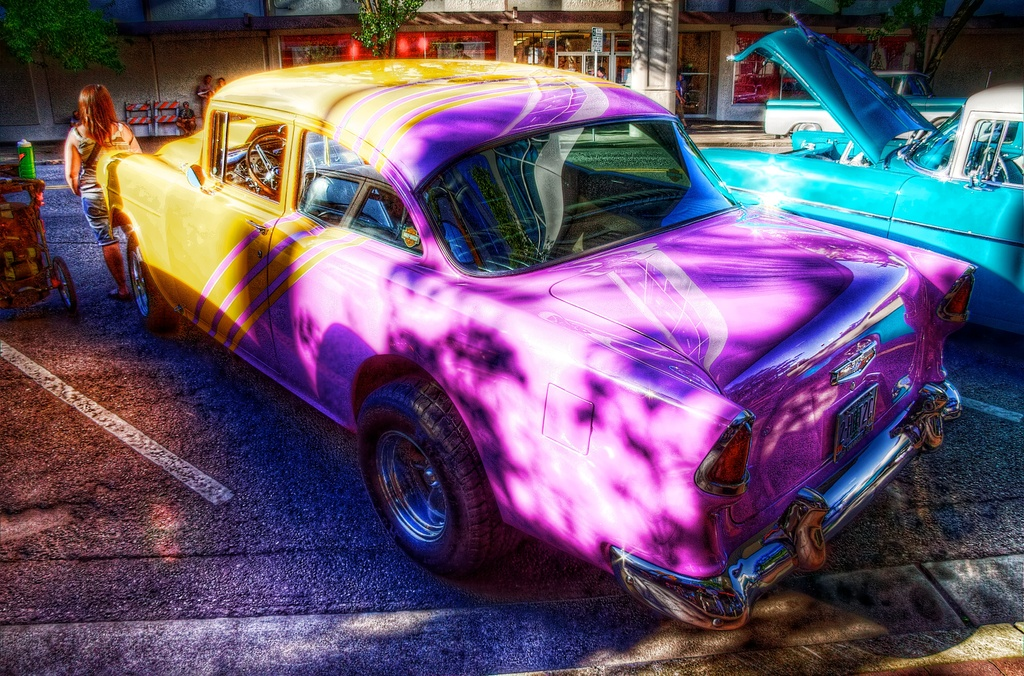Car: (100, 56, 987, 620), (683, 10, 1023, 341), (758, 65, 969, 138)
